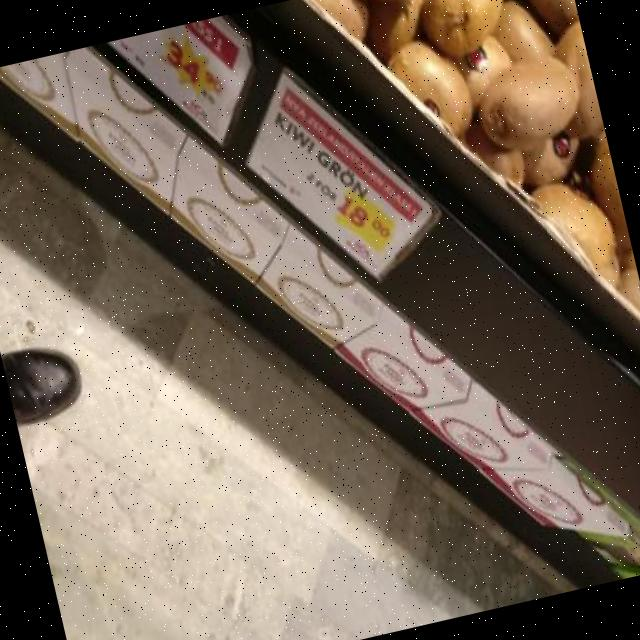kiwi: (533, 182, 618, 285), (481, 59, 577, 146), (387, 42, 471, 135), (554, 20, 603, 137), (590, 130, 631, 251), (422, 0, 501, 55), (455, 34, 510, 107), (464, 120, 523, 185), (492, 0, 553, 61), (366, 0, 421, 60), (521, 131, 577, 181), (313, 0, 367, 39), (528, 0, 578, 33), (618, 268, 640, 311)
